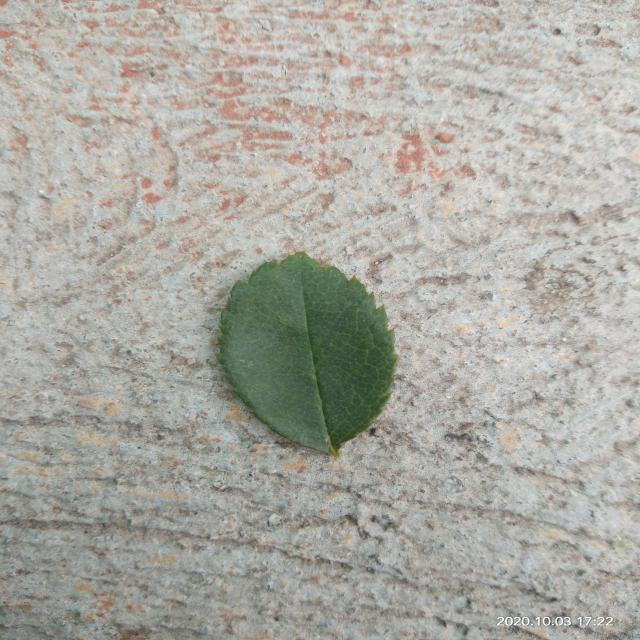rose: (217, 252, 398, 456)
